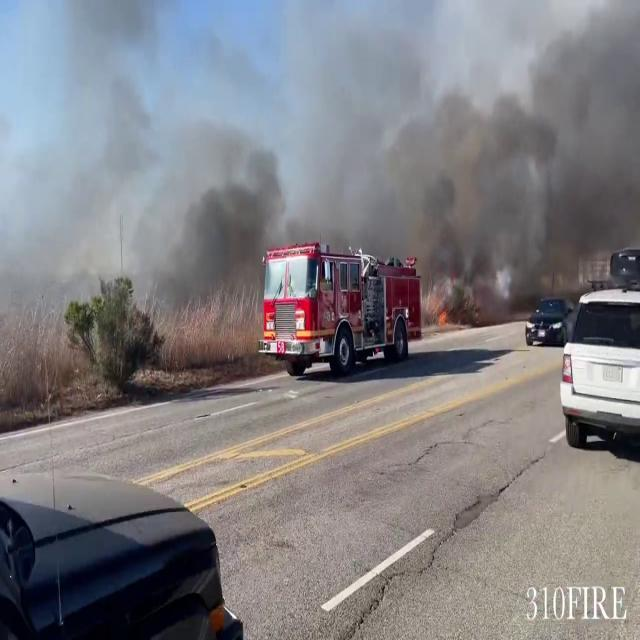Smoke: (372, 3, 640, 294), (141, 107, 303, 326)
